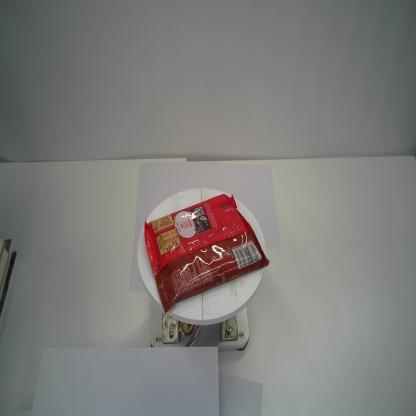Dessert: (143, 192, 271, 317)
